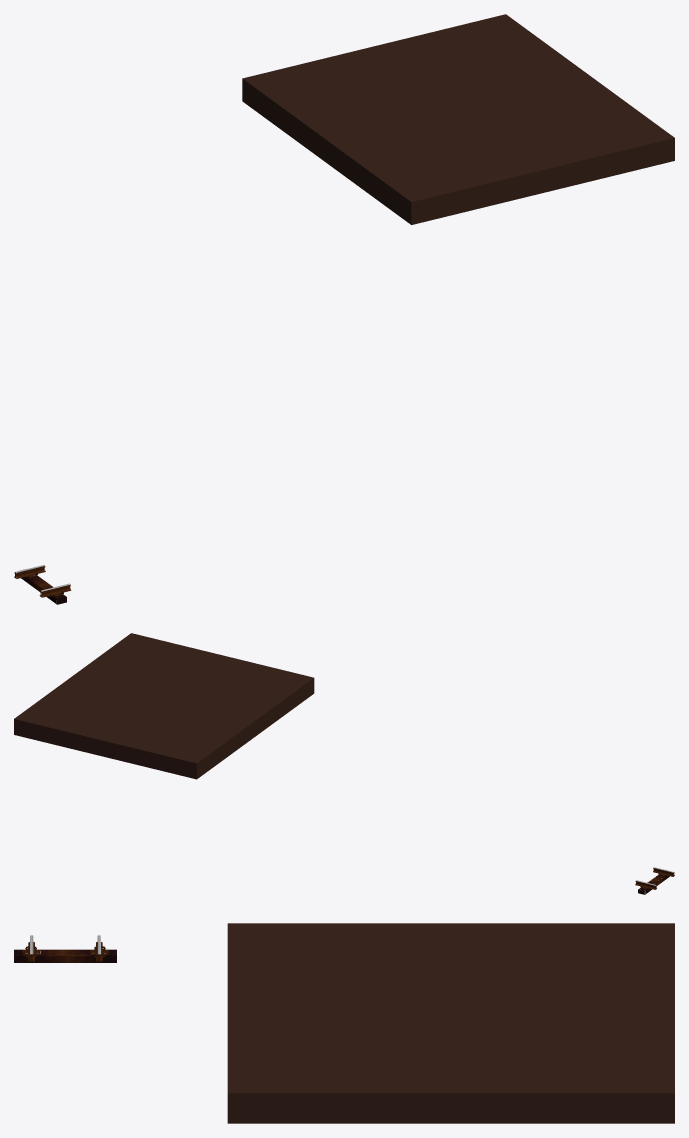
File: Track.obj
3 renders of one model, top to bottom at view 1: azimuth 30°, elevation 25°; view 2: azimuth 150°, elevation 25°; view 3: azimuth 270°, elevation 25°, orthographic. The views are drawn at different scales.
Parts seen in each view (by area): view 1: RAIL_BASE.001_ID33; view 2: RAIL_BASE.001_ID33; view 3: RAIL_BASE.001_ID33, RAIL_BASE_Cube.002.
Part boxes in pixels (x1=…): RAIL_BASE.001_ID33: x1=242, y1=14, x2=674, y2=224; RAIL_BASE.001_ID33: x1=14, y1=633, x2=314, y2=779; RAIL_BASE.001_ID33: x1=227, y1=923, x2=674, y2=1123; RAIL_BASE_Cube.002: x1=14, y1=949, x2=116, y2=962.
Bounding box in the file's own units: 24.19 × 7.75 × 14.77.
